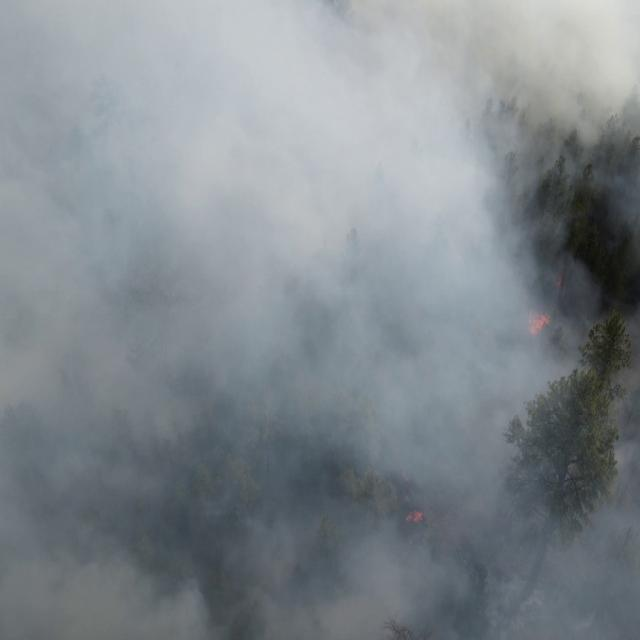fire: (526, 310, 550, 339), (402, 509, 428, 525), (552, 275, 564, 290)
smoke: (0, 0, 640, 640)
